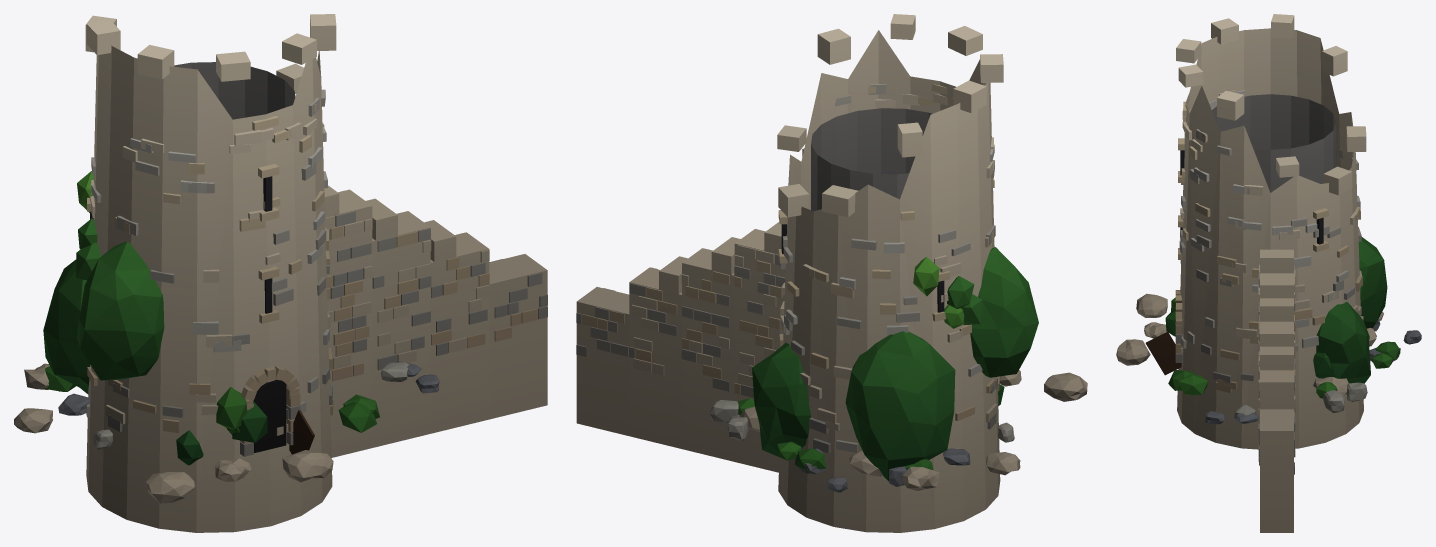
File: Tower_Ruin.fbx
The picture shows the model from 3 angles, left to right: view 1: azimuth 30°, elevation 25°; view 2: azimuth 150°, elevation 25°; view 3: azimuth 270°, elevation 25°; orthographic projection. The views are drawn at different scales.
Parts seen in each view (by area): view 1: Tower_Ruin_LOD0; view 2: Tower_Ruin_LOD0; view 3: Tower_Ruin_LOD0.
Part boxes in pixels (x1=…): Tower_Ruin_LOD0: x1=14, y1=14, x2=547, y2=532; Tower_Ruin_LOD0: x1=576, y1=14, x2=1087, y2=532; Tower_Ruin_LOD0: x1=1116, y1=14, x2=1421, y2=532.
Size of what is drawn, in the model's own units: 20.53 by 18.5 by 14.38.
1 material, 1 textured.
